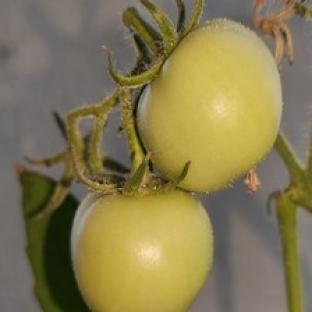Tomato: (137, 20, 282, 192), (73, 191, 213, 311)
